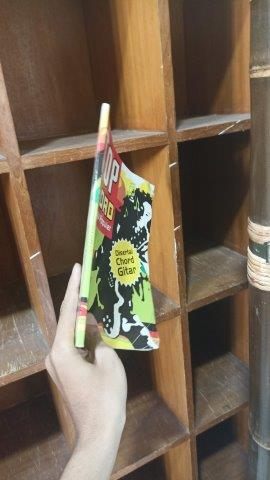kertas: (72, 103, 167, 355)
